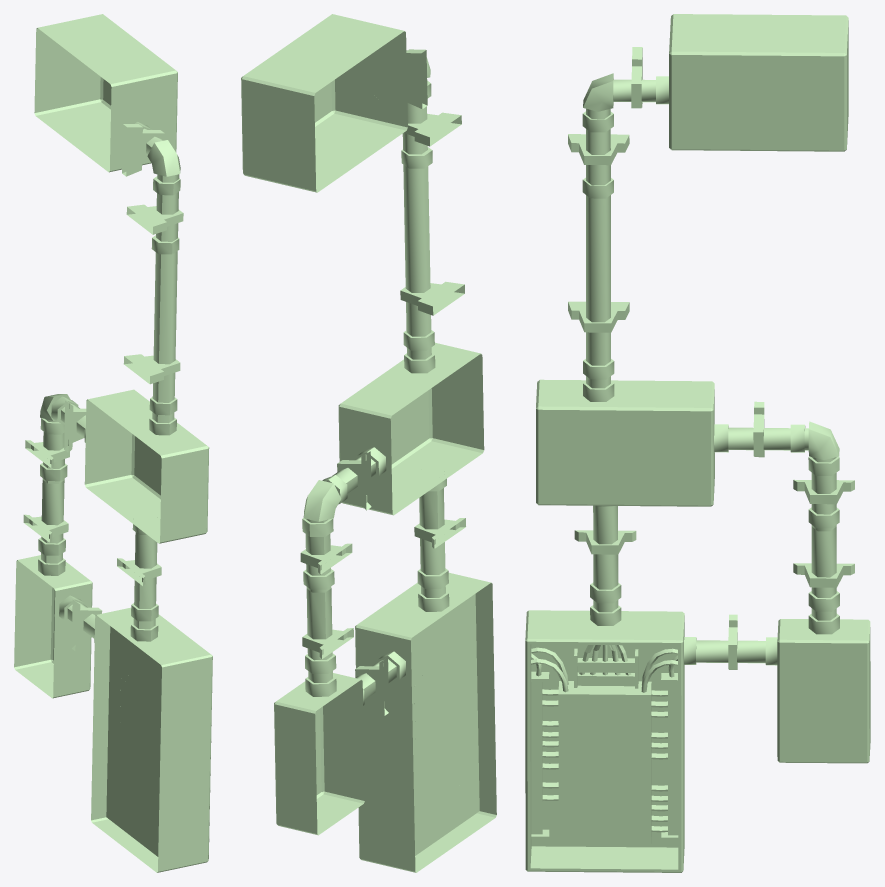
Rendered from electricalbox1.fbx.
3 renders of one model, left to right at view 1: azimuth 30°, elevation 25°; view 2: azimuth 150°, elevation 25°; view 3: azimuth 270°, elevation 25°, orthographic. The views are drawn at different scales.
Parts seen in each view (by area): view 1: electro_panel_shhc_001; view 2: electro_panel_shhc_001; view 3: electro_panel_shhc_001.
Part boxes in pixels (x1=…): electro_panel_shhc_001: x1=14, y1=14, x2=212, y2=872; electro_panel_shhc_001: x1=241, y1=14, x2=496, y2=872; electro_panel_shhc_001: x1=525, y1=14, x2=870, y2=872.
Bounding box in the file's own units: 28.24 × 231 × 85.92.
